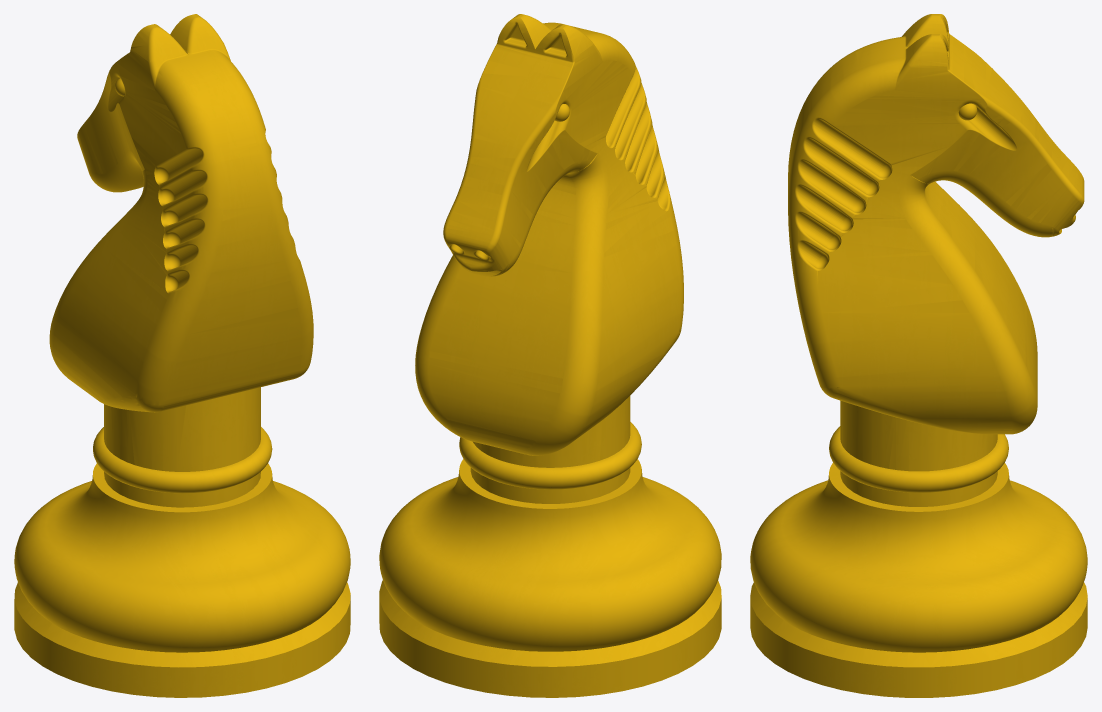
File: Gold-Knight.glb
The picture shows the model from 3 angles, left to right: view 1: azimuth 30°, elevation 25°; view 2: azimuth 150°, elevation 25°; view 3: azimuth 270°, elevation 25°; orthographic projection.
Parts seen in each view (by area): view 1: Mesh_0; view 2: Mesh_0; view 3: Mesh_0.
Boxes of the visible parts, box(x1,y1,x2,y2) form: Mesh_0: box(14, 14, 350, 697); Mesh_0: box(379, 14, 721, 697); Mesh_0: box(750, 14, 1087, 697).
Bounding box in the file's own units: 30.49 × 60 × 30.51.
Materials: 1 (1 with a texture image).
